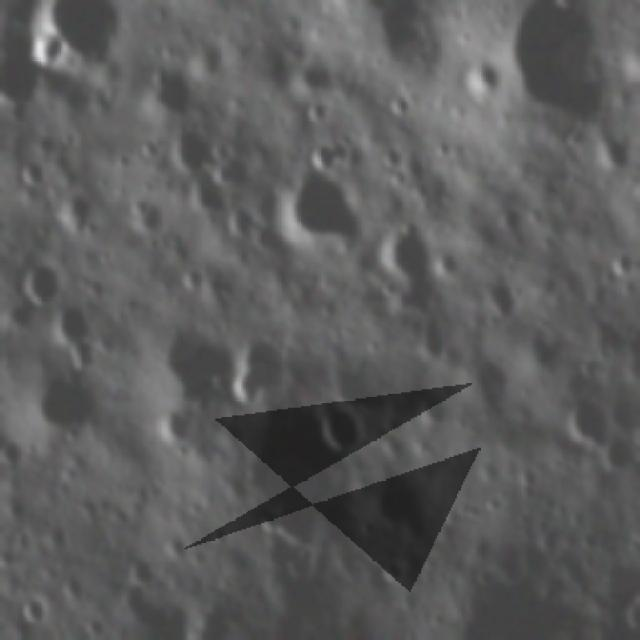crater: (500, 0, 607, 115), (148, 325, 234, 406), (30, 0, 124, 74), (286, 173, 362, 247), (227, 333, 295, 410), (30, 376, 101, 432), (54, 300, 100, 372), (558, 399, 612, 456), (316, 396, 362, 459), (144, 68, 199, 117), (458, 57, 504, 109), (392, 228, 432, 282), (481, 276, 519, 326), (150, 408, 195, 448), (184, 178, 228, 218), (406, 396, 451, 432), (24, 268, 65, 307), (54, 200, 98, 235), (175, 136, 220, 170), (598, 134, 632, 175), (247, 507, 287, 538), (18, 158, 50, 192), (133, 202, 162, 238), (134, 133, 164, 167), (604, 250, 634, 284), (574, 349, 604, 383), (498, 203, 524, 242), (125, 562, 164, 588), (161, 534, 190, 566), (235, 207, 258, 244), (24, 600, 47, 628), (3, 434, 20, 471), (384, 559, 407, 586), (307, 104, 333, 127), (577, 534, 603, 557), (32, 138, 60, 159), (388, 169, 412, 193), (85, 615, 108, 640), (534, 534, 561, 555), (484, 494, 507, 518), (515, 468, 540, 490), (566, 510, 591, 532), (183, 269, 202, 297), (438, 255, 460, 279), (376, 278, 398, 302), (6, 503, 29, 525), (472, 541, 496, 562), (435, 142, 457, 164), (381, 148, 407, 166), (392, 97, 414, 118), (367, 335, 384, 356), (360, 521, 378, 539)
